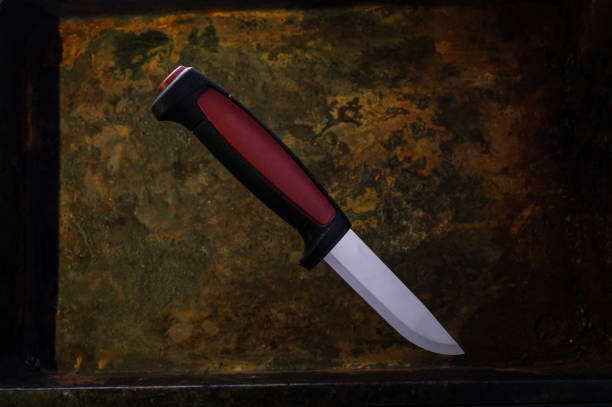knife: (149, 63, 467, 358)
